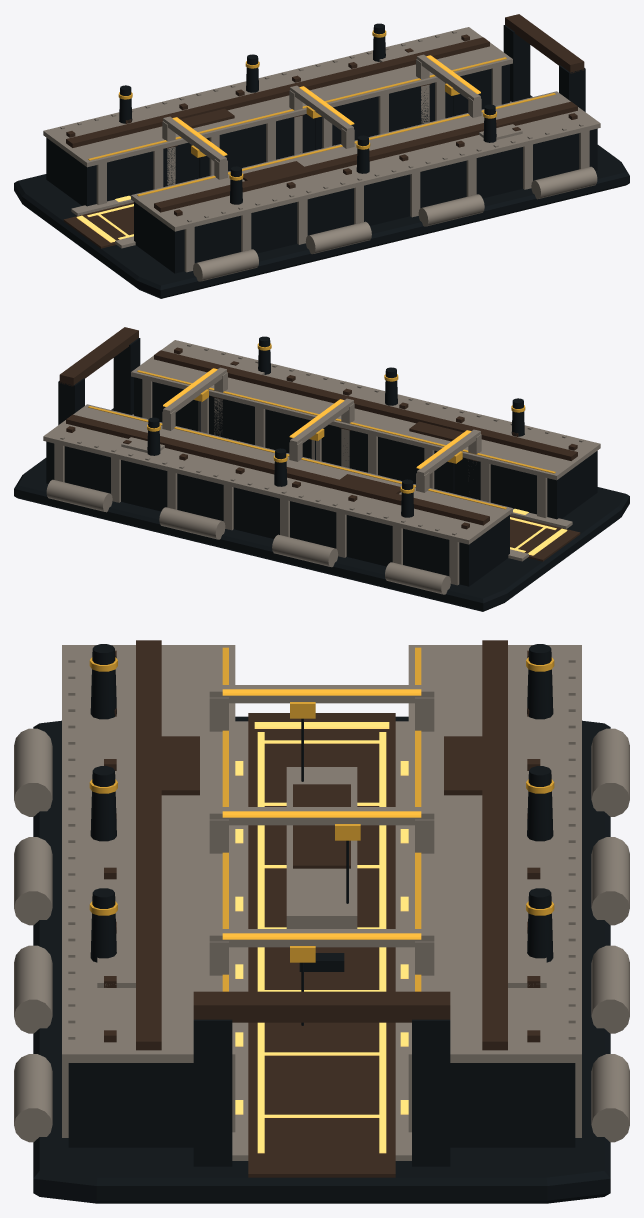
Rendered from slipway-bathyarch.glb.
3 renders of one model, top to bottom at view 1: azimuth 30°, elevation 25°; view 2: azimuth 150°, elevation 25°; view 3: azimuth 270°, elevation 25°, orthographic. The views are drawn at different scales.
Parts seen in each view (by area): view 1: hall_body (×2), hall_roof (×2), foundation_slab, hall_ridge (×2), gantry_beam (×3), hazard_stripe (×2), head_lintel, slip_floor, gantry_leg_p (×3), head_pylon_p, tank_2, tank_3 (+15 smaller); view 2: hall_body (×2), hall_roof (×2), foundation_slab, hall_ridge (×2), gantry_beam (×3), hazard_stripe (×2), head_lintel, slip_floor, head_pylon_s, tank_2, tank_3, tank_1 (+16 smaller); view 3: hall_roof (×2), slip_floor, foundation_slab, hall_body (×2), hall_ridge (×2), slip_apron (×2), gantry_beam (×3), head_lintel, hull_in_progress, tank_2 (×2), tank_0 (×2), tank_1 (×2) (+15 smaller).
Part boxes in pixels (x1,y1,x2,y2): hall_body (×2): [46, 64, 597, 273]; hall_roof (×2): [43, 27, 600, 231]; foundation_slab: [14, 95, 629, 298]; hall_ridge (×2): [66, 37, 577, 212]; gantry_beam (×3): [163, 54, 480, 163]; hazard_stripe (×2): [88, 57, 555, 196]; head_lintel: [505, 14, 584, 73]; slip_floor: [63, 202, 133, 248]; gantry_leg_p (×3): [162, 59, 429, 185]; head_pylon_p: [503, 25, 530, 101]; tank_2: [418, 194, 484, 226]; tank_3: [531, 166, 597, 199]; hall_body (×2): [46, 377, 597, 586]; hall_roof (×2): [43, 340, 600, 544]; foundation_slab: [14, 408, 629, 611]; hall_ridge (×2): [66, 350, 577, 525]; gantry_beam (×3): [163, 367, 480, 477]; hazard_stripe (×2): [88, 370, 555, 509]; head_lintel: [59, 327, 138, 386]; slip_floor: [510, 515, 580, 561]; head_pylon_s: [113, 338, 140, 414]; tank_2: [159, 507, 225, 539]; tank_3: [46, 479, 112, 512]; tank_1: [272, 534, 338, 567]; hall_roof (×2): [62, 645, 581, 1062]; slip_floor: [248, 713, 395, 1177]; foundation_slab: [33, 716, 610, 1203]; hall_body (×2): [68, 1063, 575, 1147]; hall_ridge (×2): [136, 640, 507, 1050]; slip_apron (×2): [232, 721, 411, 1160]; gantry_beam (×3): [209, 685, 434, 947]; head_lintel: [193, 991, 450, 1022]; hull_in_progress: [286, 767, 357, 928]; tank_2 (×2): [14, 945, 629, 1033]; tank_0 (×2): [14, 728, 629, 816]; tank_1 (×2): [14, 837, 629, 925].
Bounding box in the file's own units: 340 × 64.24 × 190.
